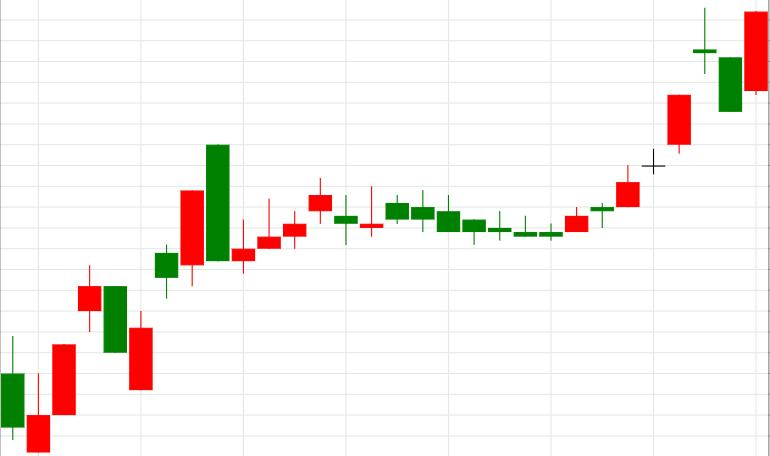evening_star_fall: (565, 8, 741, 232)
